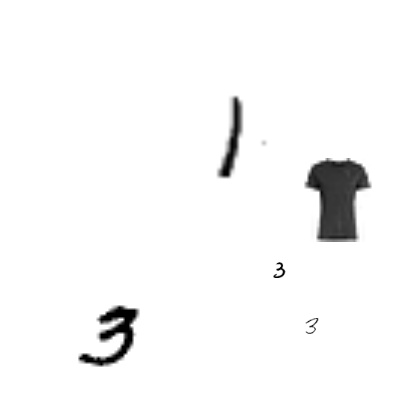1: (174, 81, 286, 193)
3: (73, 291, 157, 375), (301, 314, 323, 336), (269, 260, 291, 282)
T-shirt/top: (296, 158, 380, 242)
